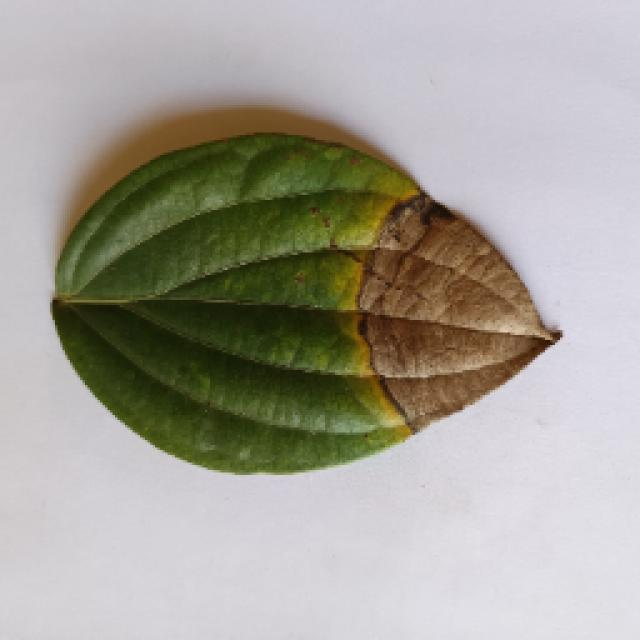footrot: (35, 112, 570, 478)
